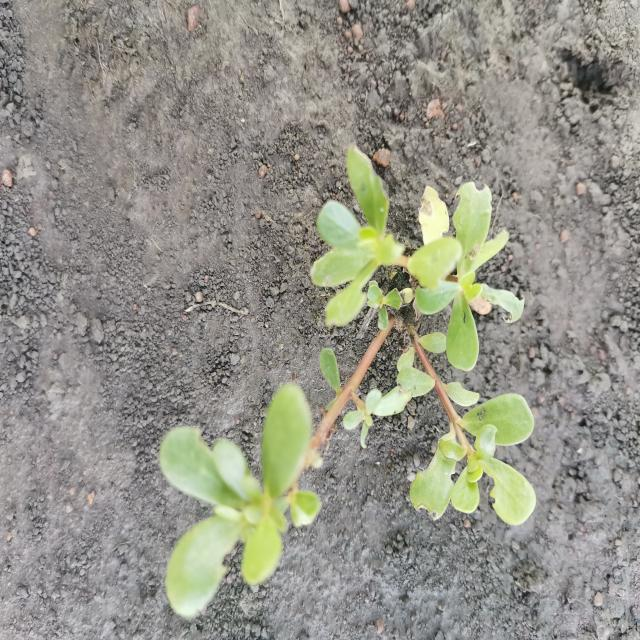Purslane: (157, 139, 539, 619)
